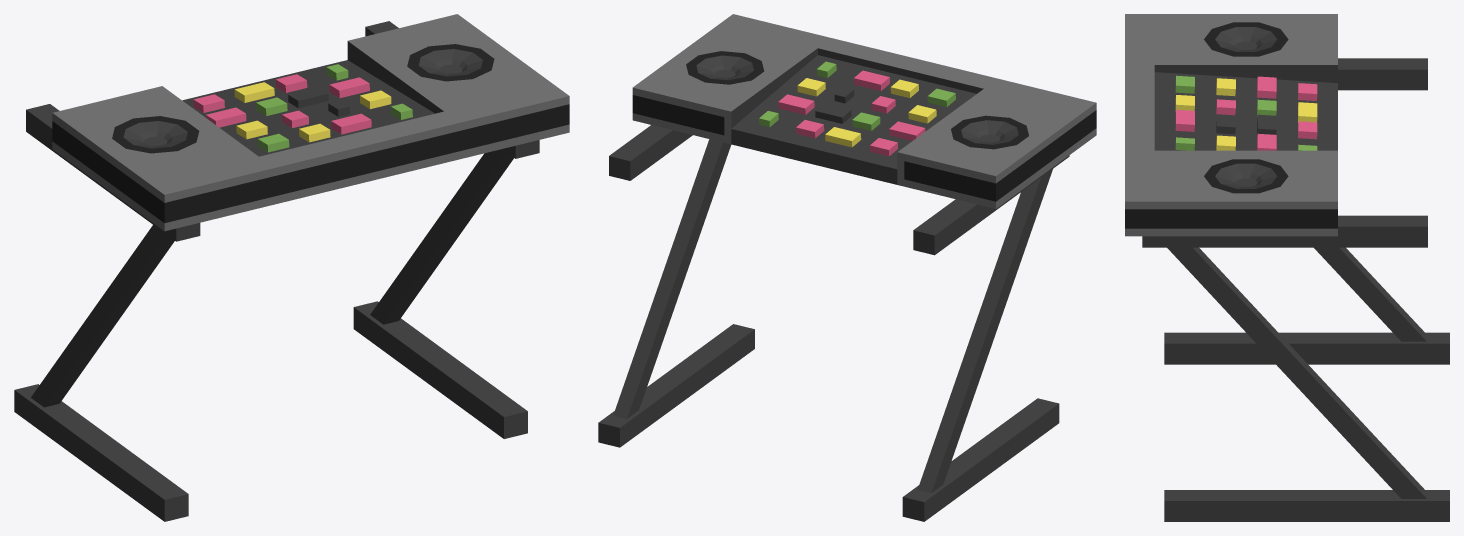
Rendered from DJ setup.fbx.
3 views of the same model, side by side, from view 1: azimuth 30°, elevation 25°; view 2: azimuth 150°, elevation 25°; view 3: azimuth 270°, elevation 25° (orthographic). The views are drawn at different scales.
Parts seen in each view (by area): view 1: DJ setup; view 2: DJ setup; view 3: DJ setup.
Part boxes in pixels (x1,y1,x2,y2): DJ setup: [14, 14, 569, 521]; DJ setup: [598, 14, 1096, 521]; DJ setup: [1125, 14, 1449, 521].
Bounding box in the file's own units: 136 × 112 × 99.54.
